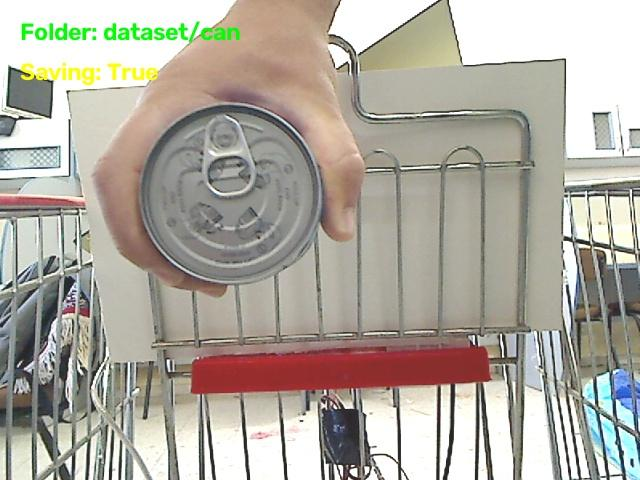can: (140, 103, 321, 283)
